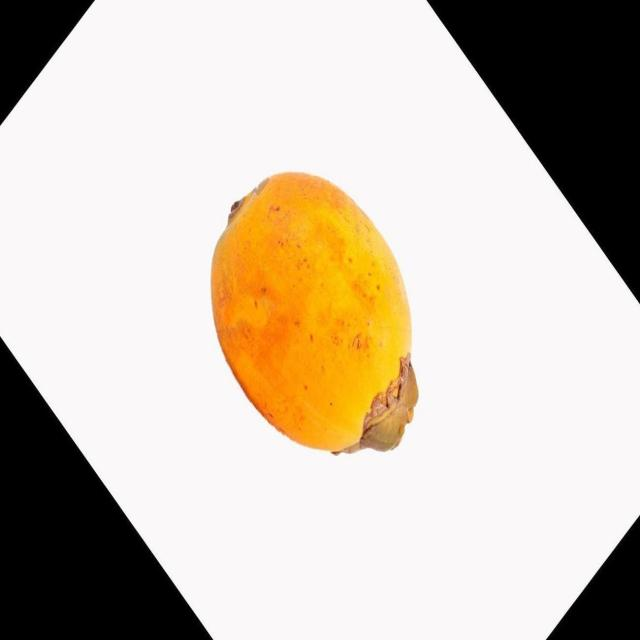good: (209, 172, 420, 456)
